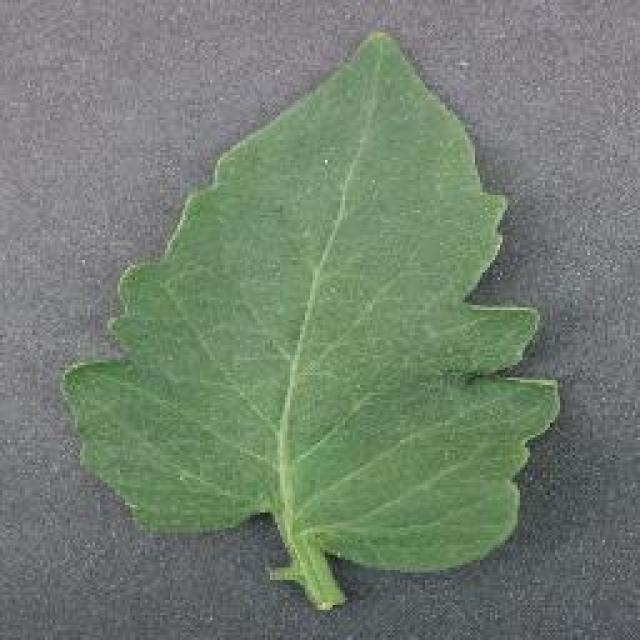Healthy: (40, 22, 572, 628)
